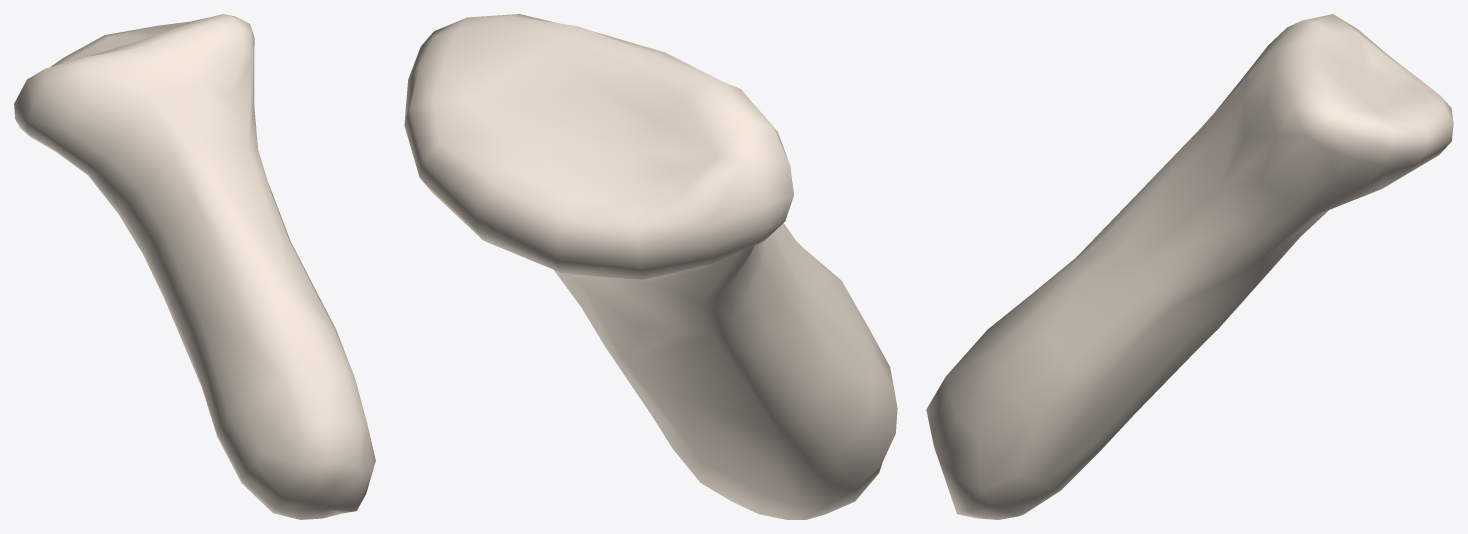
The model's file is right_digit_5_distal.glb.
The picture shows the model from 3 angles, left to right: view 1: azimuth 30°, elevation 25°; view 2: azimuth 150°, elevation 25°; view 3: azimuth 270°, elevation 25°; orthographic projection. The views are drawn at different scales.
Visible parts, largest first — view 1: Distal phalanx of 5th finger.r; view 2: Distal phalanx of 5th finger.r; view 3: Distal phalanx of 5th finger.r.
Boxes of the visible parts, x1,y1,x2,y2 form: Distal phalanx of 5th finger.r: (14,14,375,519); Distal phalanx of 5th finger.r: (404,14,897,519); Distal phalanx of 5th finger.r: (926,14,1453,519).
Bounding box in the file's own units: 0.00727 × 0.0122 × 0.0129.
